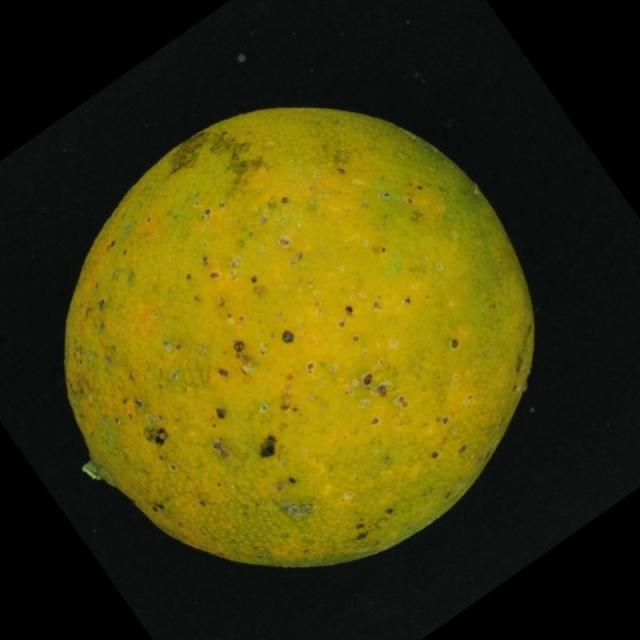grenning: (46, 86, 564, 594)
